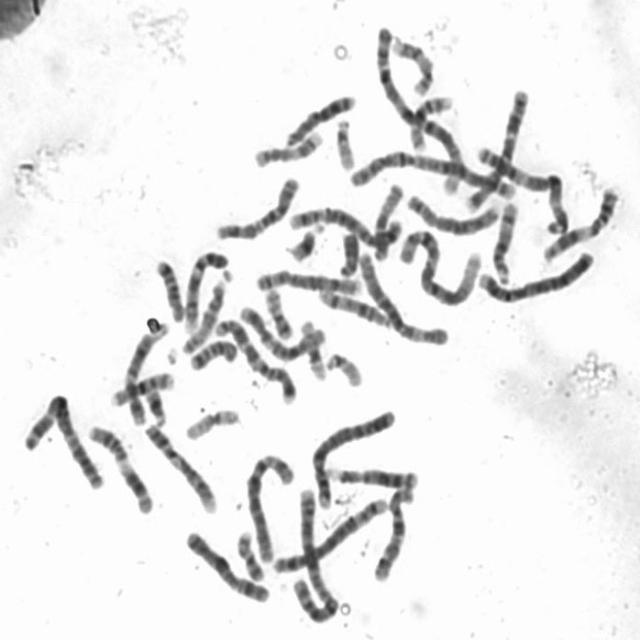A1: (370, 19, 468, 197), (394, 223, 484, 308)
A2: (346, 145, 522, 202), (288, 482, 340, 626)
A3: (18, 386, 108, 492), (472, 140, 570, 236)
B4: (308, 403, 398, 511), (472, 243, 598, 305)
B5: (268, 491, 390, 576), (284, 201, 401, 249)
C10: (212, 171, 303, 242), (370, 481, 418, 584)
C11: (82, 418, 156, 516), (538, 180, 623, 264)
C12: (235, 302, 326, 363), (119, 320, 170, 428)
C6: (354, 248, 450, 348), (242, 446, 298, 566)
C7: (460, 81, 532, 216), (211, 311, 299, 405)
C8: (403, 188, 502, 236), (250, 263, 364, 297)
C9: (140, 418, 218, 514), (179, 244, 233, 336)
D13: (280, 88, 358, 148), (323, 460, 421, 490)
D14: (314, 283, 394, 329), (488, 194, 522, 284)
D15: (178, 266, 235, 355), (369, 177, 406, 263)
E16: (406, 89, 456, 152), (107, 366, 177, 408)
E17: (248, 125, 326, 169), (387, 31, 435, 97)
E18: (151, 254, 187, 324), (185, 334, 241, 372)
F19: (181, 402, 242, 442), (295, 314, 330, 382)
F20: (260, 284, 296, 341), (232, 526, 267, 583)
G21: (284, 217, 326, 264), (141, 382, 169, 428)
G22: (322, 346, 366, 389), (331, 112, 359, 172)
X: (179, 525, 272, 605)
Y: (334, 227, 361, 278)
